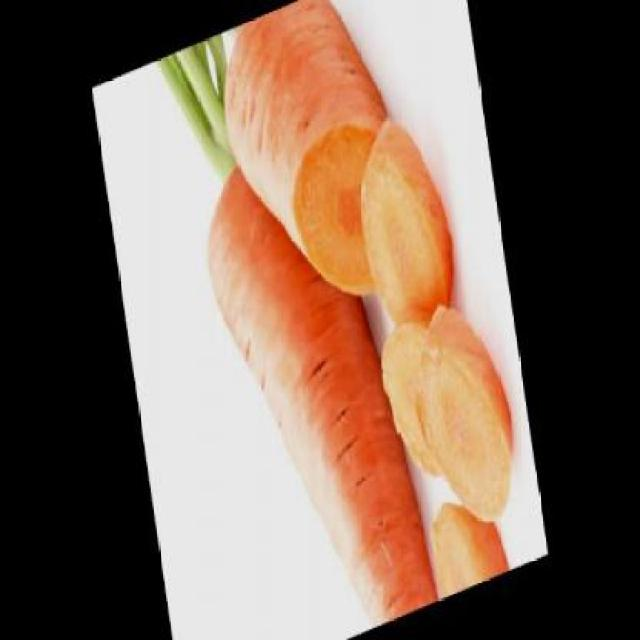carrot: (194, 104, 446, 638), (211, 0, 414, 348)
